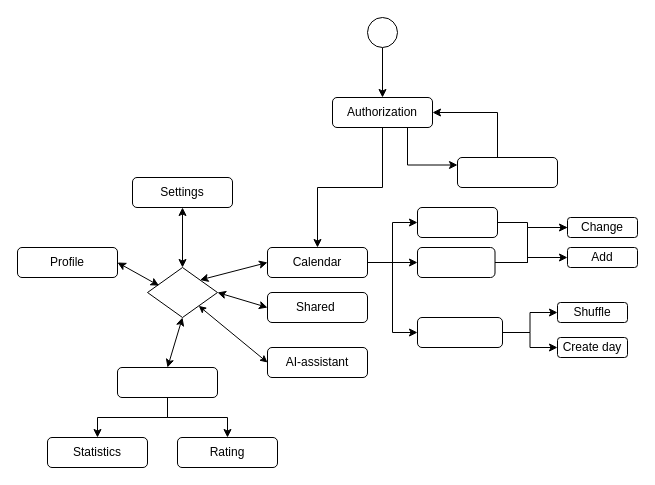
This 655x485 diagram has some shape labels left out. The centre of each missing label's shape, as x and y in pixels:
"Day view" goes at (457,222).
"My Progress" goes at (167,382).
"Navigation" goes at (182,292).
"Planner" goes at (459,332).
"Registration" goes at (507,172).
"Tasks" goes at (455,262).
